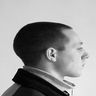ear: (42, 43, 62, 67)
